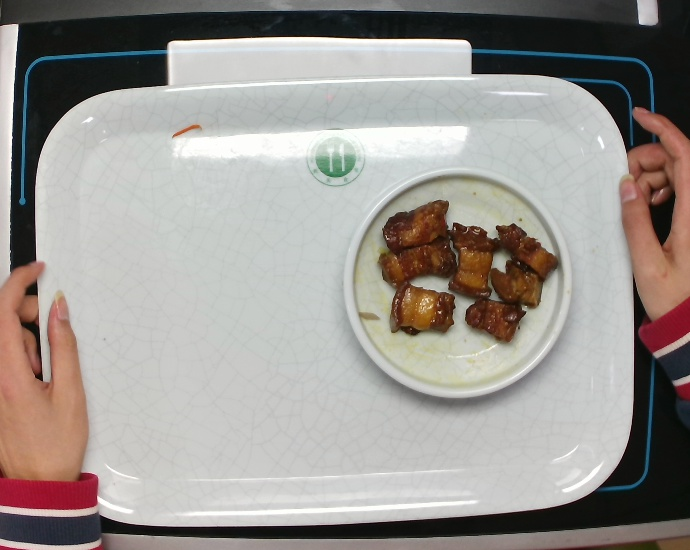JYsf-Xiao_Yuan_Pan: (332, 157, 580, 405)
